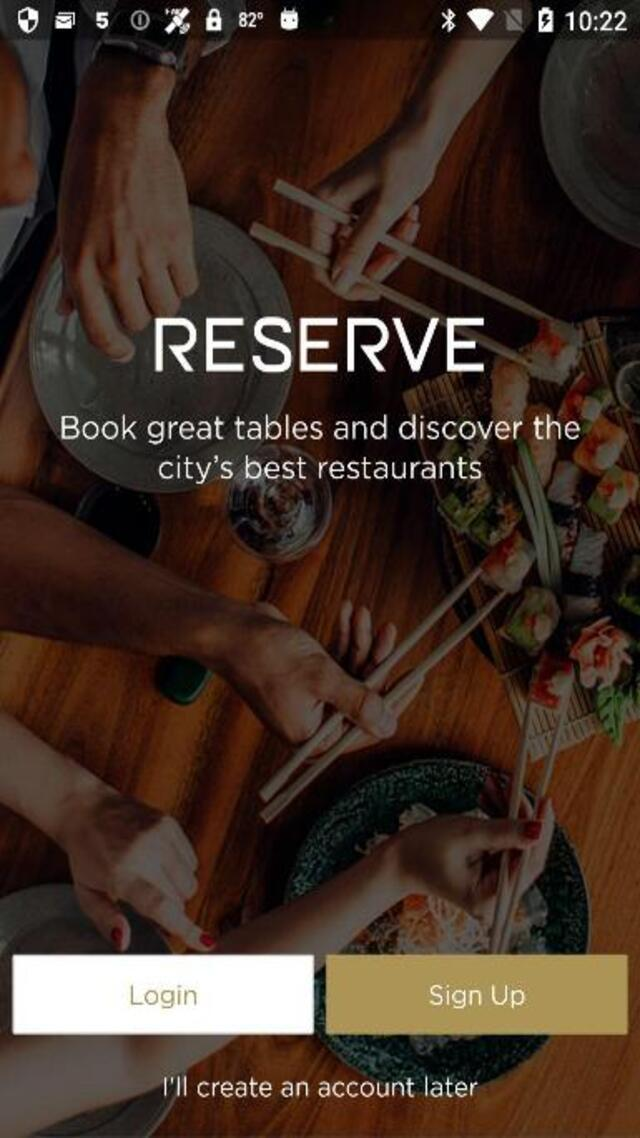Image: (154, 317, 483, 372)
Text: (52, 416, 583, 446), (155, 452, 488, 486), (164, 1076, 478, 1097), (422, 982, 530, 1016), (120, 982, 204, 1016)
TextButton: (12, 954, 314, 1034), (327, 954, 628, 1034)
